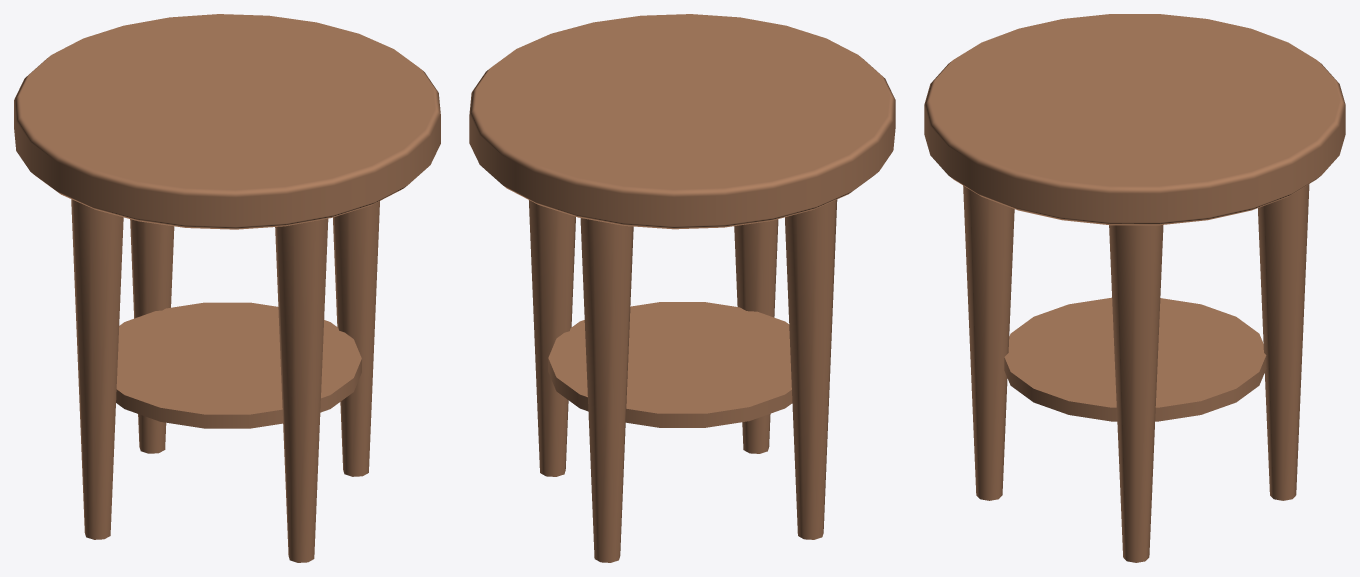
File: table.gltf
3 views of the same model, side by side, from view 1: azimuth 30°, elevation 25°; view 2: azimuth 150°, elevation 25°; view 3: azimuth 270°, elevation 25° (orthographic).
Visible parts, largest first — view 1: table, basetable, Cylinder 5 (×2), Cylinder 2, Cylinder 3; view 2: table, Cylinder 5 (×2), basetable, Cylinder 3, Cylinder 2; view 3: table, basetable, Cylinder 5, Cylinder 3, Cylinder 2.
Part boxes in pixels (x1=…): table: x1=14, y1=14, x2=440, y2=229; basetable: x1=116, y1=302, x2=361, y2=428; Cylinder 5 (×2): x1=71, y1=199, x2=379, y2=539; Cylinder 2: x1=275, y1=218, x2=328, y2=562; Cylinder 3: x1=130, y1=219, x2=174, y2=453; table: x1=469, y1=14, x2=895, y2=229; Cylinder 5 (×2): x1=529, y1=199, x2=837, y2=539; basetable: x1=548, y1=302, x2=792, y2=427; Cylinder 3: x1=580, y1=218, x2=633, y2=562; Cylinder 2: x1=734, y1=219, x2=778, y2=453; table: x1=924, y1=14, x2=1345, y2=225; basetable: x1=1004, y1=297, x2=1266, y2=421; Cylinder 5: x1=1109, y1=225, x2=1163, y2=562; Cylinder 3: x1=1258, y1=184, x2=1309, y2=500; Cylinder 2: x1=963, y1=185, x2=1014, y2=500.
Size of the model in its own units: 2.39 by 2.49 by 2.41.
